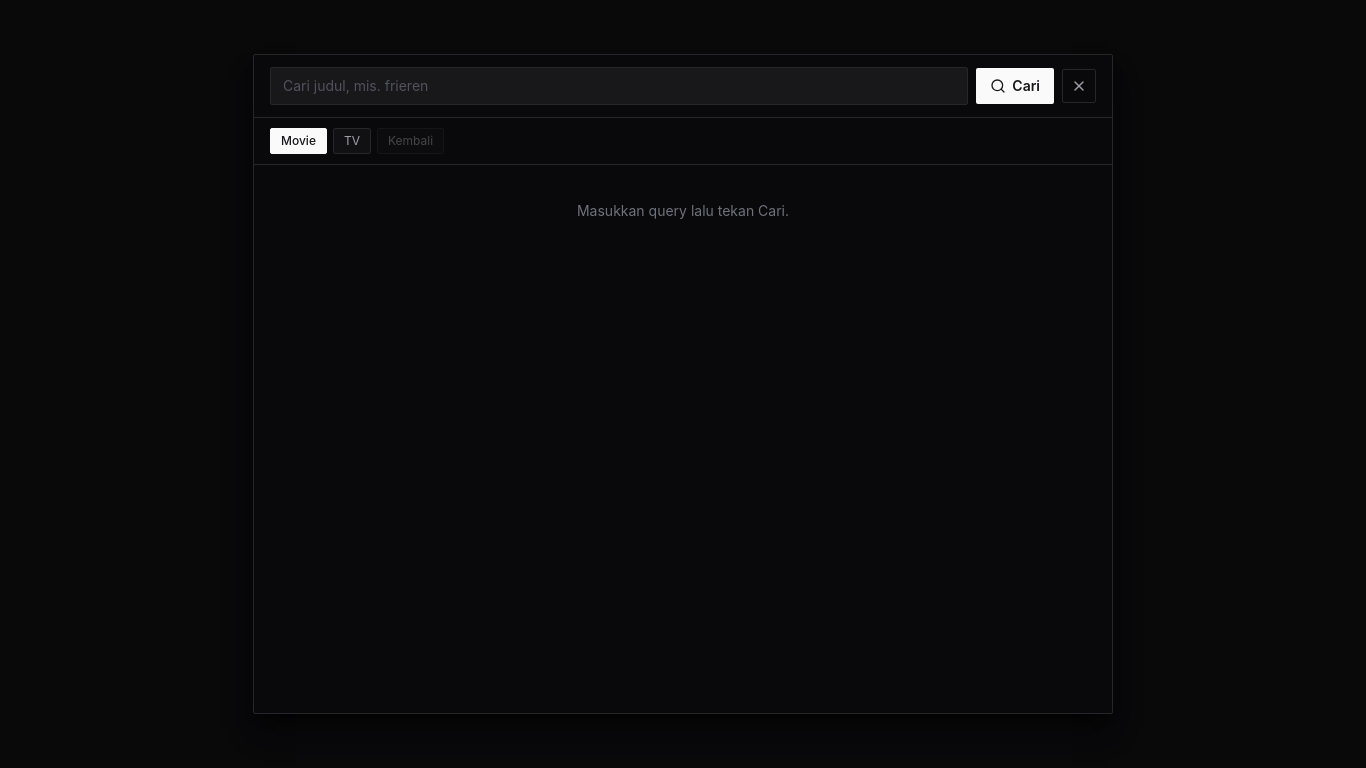
Test: SearchDialog › menampilkan hasil pencarian, bukan empty state, ketika /api/search balas data
In the field with placeholder "Cari judul, mis. frieren": (619, 86) [270,67,968,105], type "spiderman"
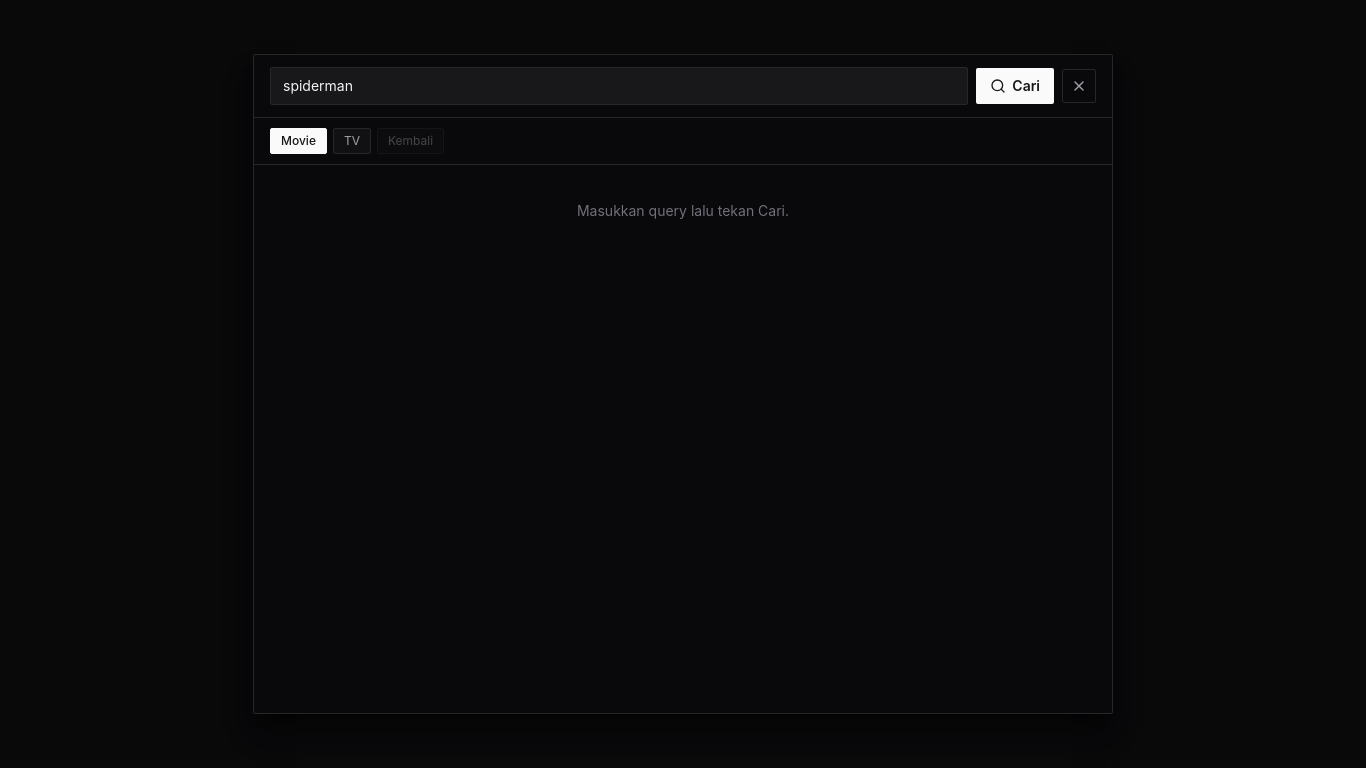
Click the button "Cari": (1015, 86) [976,68,1054,104]
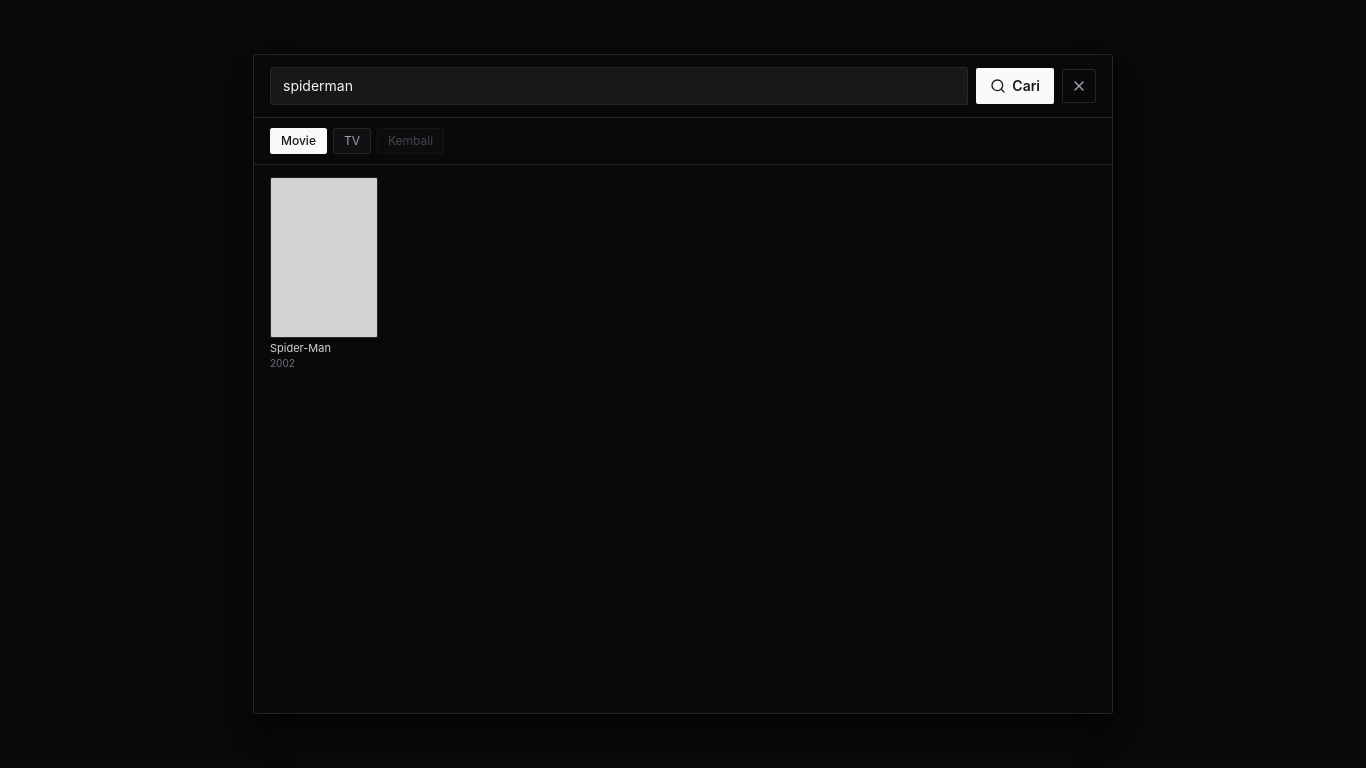
Expected: the text "Spider-Man" is shown, [270,342,331,356]
Expected: the text "Masukkan query lalu tekan Cari" is gone
